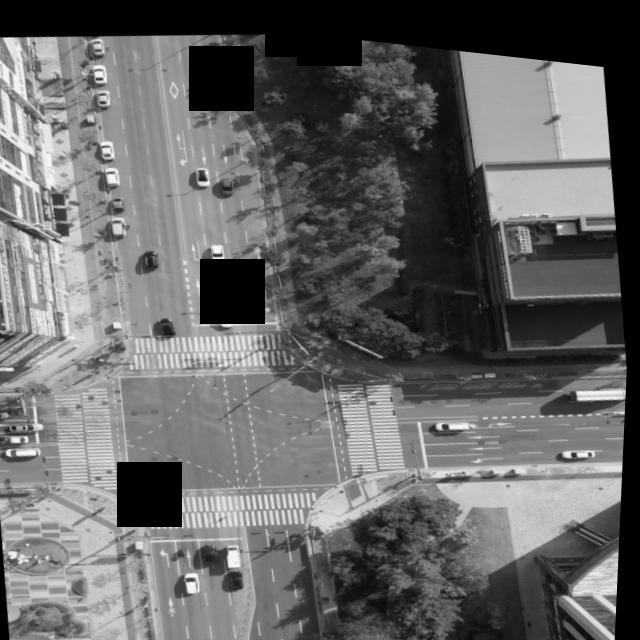car: (8, 445, 45, 462), (437, 408, 474, 425), (562, 433, 599, 449), (12, 419, 48, 434), (160, 312, 179, 336), (110, 212, 129, 236), (233, 562, 250, 586), (187, 566, 204, 589), (100, 138, 117, 160), (90, 35, 108, 55), (145, 245, 162, 266), (194, 163, 211, 184), (92, 62, 109, 83), (105, 165, 122, 186), (220, 303, 237, 323), (206, 541, 223, 561), (96, 88, 113, 107), (220, 172, 235, 193), (212, 238, 228, 257), (113, 193, 127, 212), (180, 544, 192, 558), (0, 408, 14, 420)
medium_truck: (570, 369, 629, 391)
small_truck: (0, 432, 30, 445), (229, 538, 245, 562)
